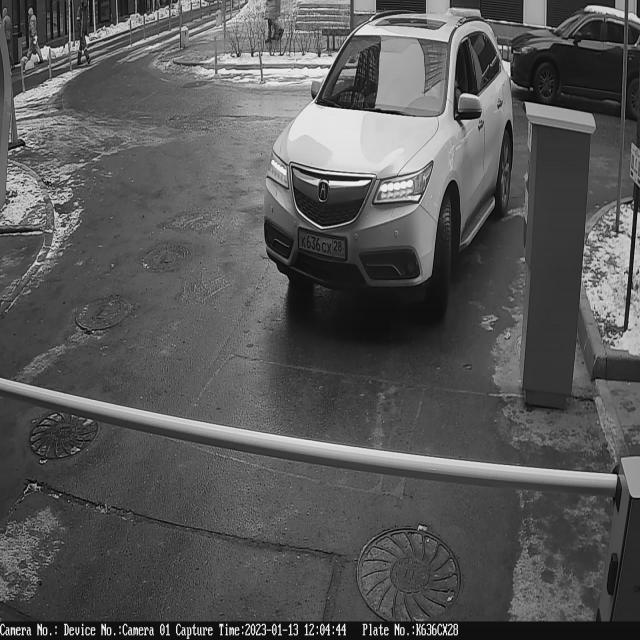car-plate-numbers: (298, 230, 348, 263)
